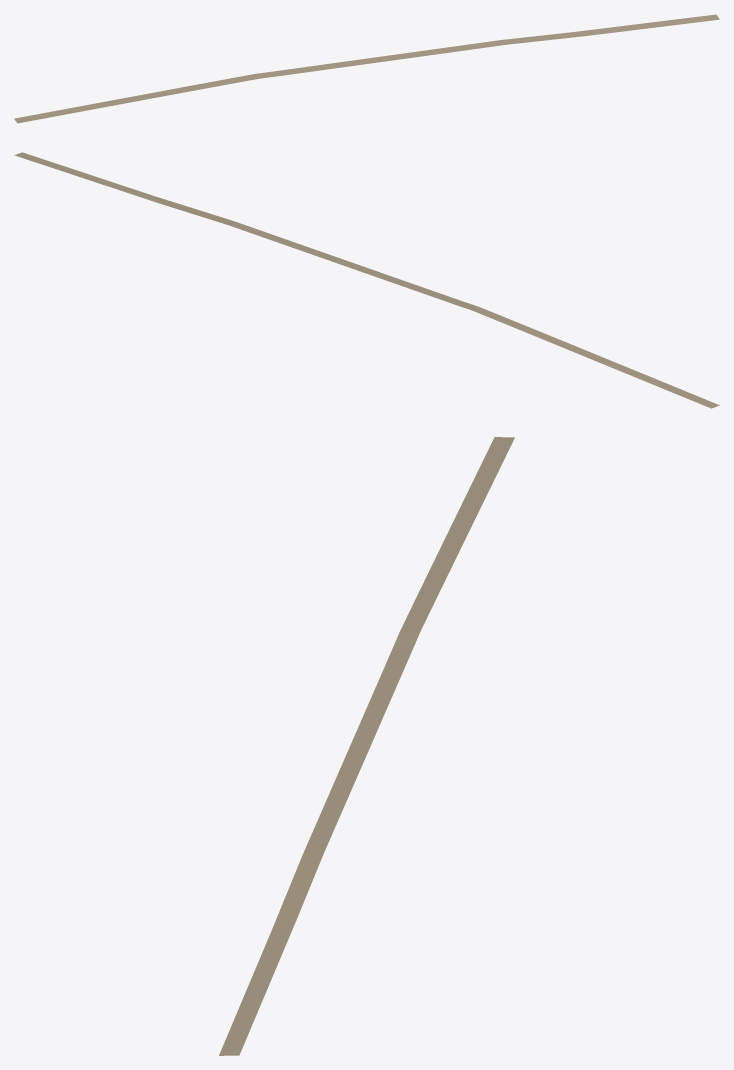
File: farm_-23_-21_track.glb
3 views of the same model, one above another, from view 1: azimuth 30°, elevation 25°; view 2: azimuth 150°, elevation 25°; view 3: azimuth 270°, elevation 25° (orthographic). The views are drawn at different scales.
Visible parts, largest first — view 1: geometry_0; view 2: geometry_0; view 3: geometry_0.
Part boxes in pixels (left/top/right/bottom): geometry_0: left=14, top=14, right=719, bottom=123; geometry_0: left=14, top=152, right=719, bottom=408; geometry_0: left=219, top=437, right=514, bottom=1055.
Bounding box in the file's own units: 229 × 3.42 × 46.31.
